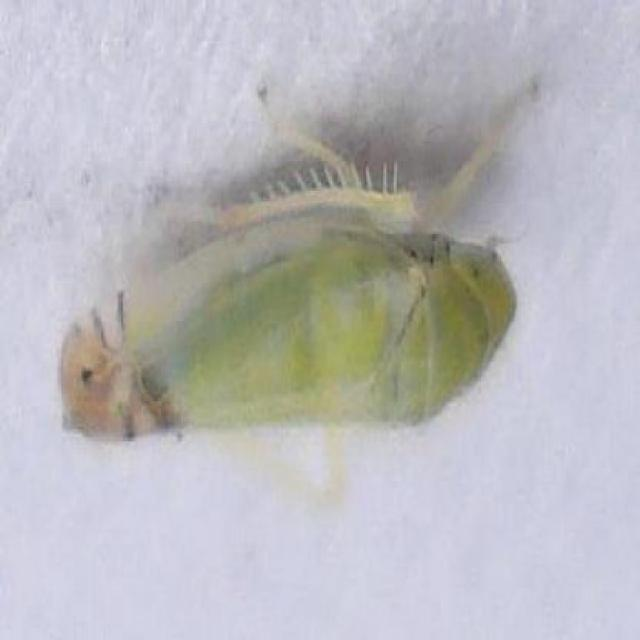green-leafhopper: (59, 209, 512, 443)
